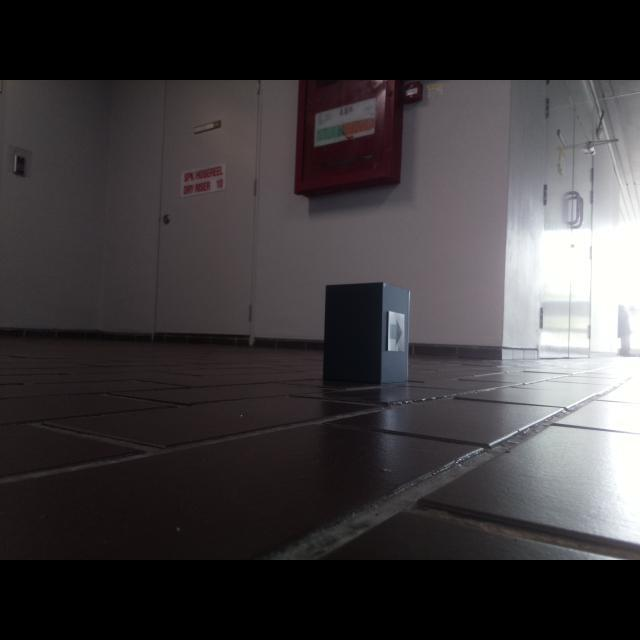RIGHT: (389, 317, 403, 347)
